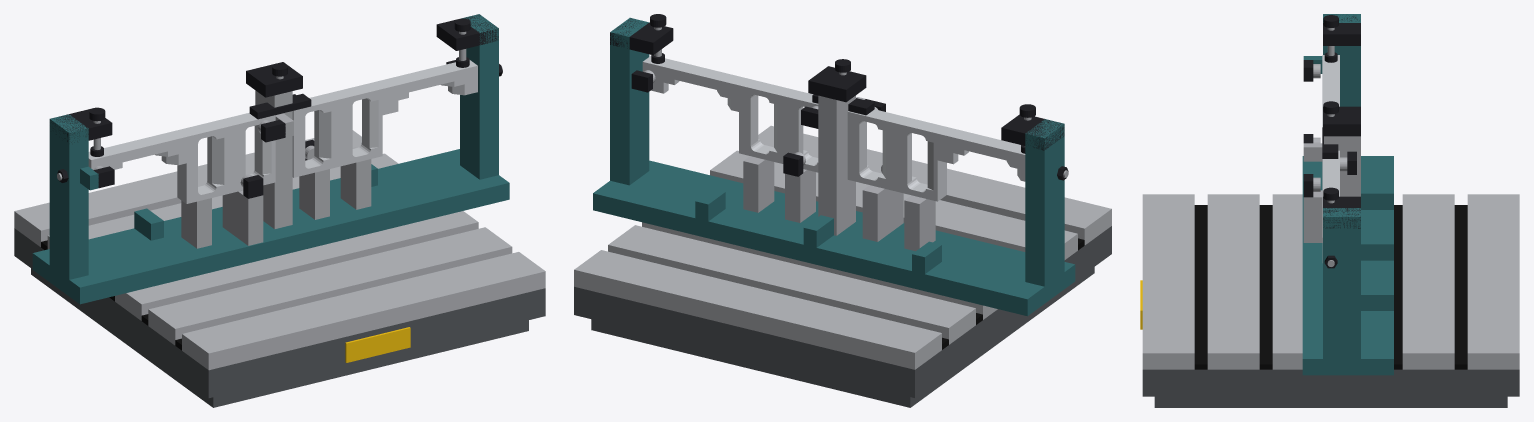
Rendered from pallet_part00_phase30_done.glb.
The picture shows the model from 3 angles, left to right: view 1: azimuth 30°, elevation 25°; view 2: azimuth 150°, elevation 25°; view 3: azimuth 270°, elevation 25°; orthographic projection. The views are drawn at different scales.
Parts seen in each view (by area): view 1: pallet_body__pb_steel, fixture__fx_paint, pallet_body__pb_steel_dark, fixture__fx_steel, part_2__part_machined, part_1__part_machined, fixture__fx_oxide, pallet_body__pb_safety_yellow, top_clamp_2__fx_oxide; view 2: pallet_body__pb_steel, fixture__fx_paint, pallet_body__pb_steel_dark, fixture__fx_steel, part_1__part_machined, part_2__part_machined, fixture__fx_oxide, top_clamp_2__fx_oxide; view 3: pallet_body__pb_steel, fixture__fx_paint, pallet_body__pb_steel_dark, pallet_body__pb_rubber, fixture__fx_oxide, fixture__fx_steel, part_1__part_machined, part_2__part_machined, top_clamp_2__fx_oxide.
Boxes of the visible parts, x1,y1,x2,y2 form: pallet_body__pb_steel: (14, 130, 545, 370); fixture__fx_paint: (32, 14, 509, 304); pallet_body__pb_steel_dark: (14, 228, 545, 407); fixture__fx_steel: (57, 66, 502, 248); part_2__part_machined: (292, 60, 477, 177); part_1__part_machined: (88, 112, 275, 203); fixture__fx_oxide: (50, 14, 502, 198); pallet_body__pb_safety_yellow: (345, 327, 410, 362); top_clamp_2__fx_oxide: (249, 63, 311, 119); pallet_body__pb_steel: (574, 125, 1111, 369); fixture__fx_paint: (593, 17, 1075, 316); pallet_body__pb_steel_dark: (574, 226, 1111, 407); fixture__fx_steel: (644, 70, 1068, 251); part_1__part_machined: (847, 109, 1025, 201); part_2__part_machined: (642, 56, 818, 172); fixture__fx_oxide: (610, 18, 1068, 180); top_clamp_2__fx_oxide: (812, 59, 874, 115); pallet_body__pb_steel: (1142, 194, 1519, 369); fixture__fx_paint: (1302, 14, 1393, 375); pallet_body__pb_steel_dark: (1142, 369, 1519, 407); pallet_body__pb_rubber: (1194, 205, 1467, 369); fixture__fx_oxide: (1303, 14, 1360, 268); fixture__fx_steel: (1303, 64, 1360, 266); part_1__part_machined: (1322, 55, 1339, 206); part_2__part_machined: (1322, 150, 1339, 262); top_clamp_2__fx_oxide: (1322, 101, 1338, 158).
Bounding box in the file's own units: 0.8272 × 0.4221 × 0.634.
